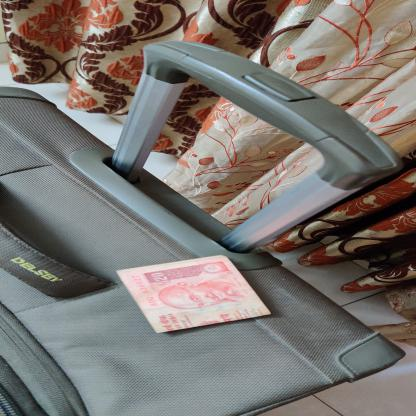Old20Front: (128, 256, 268, 333)
